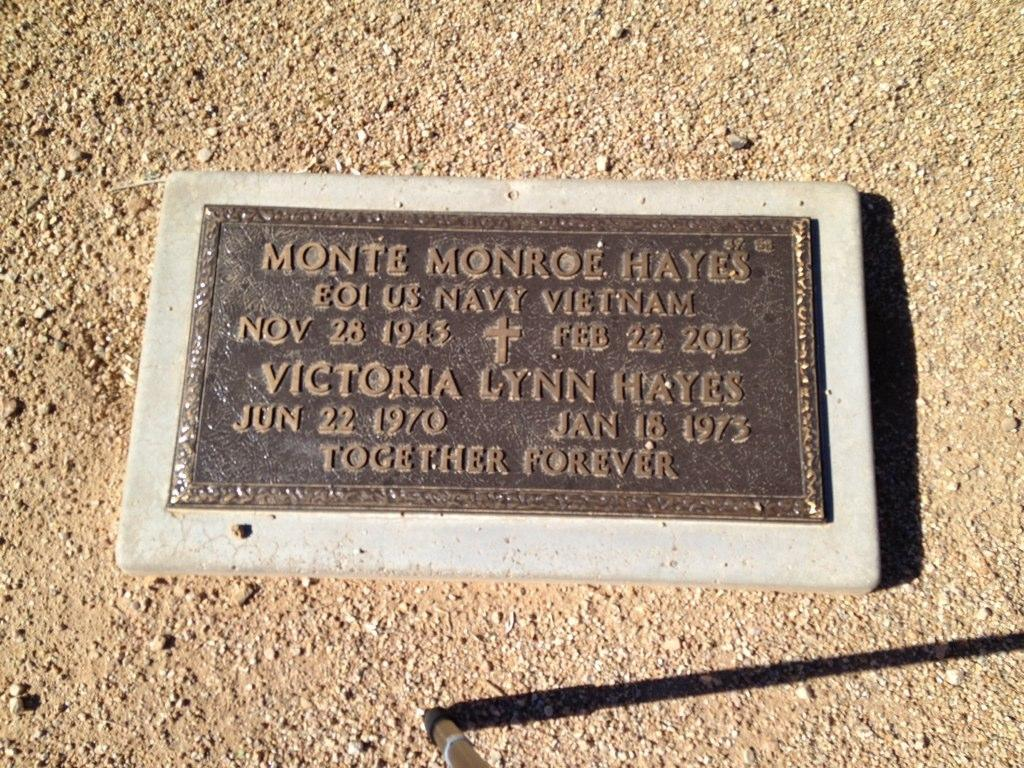flat: (119, 168, 883, 592)
